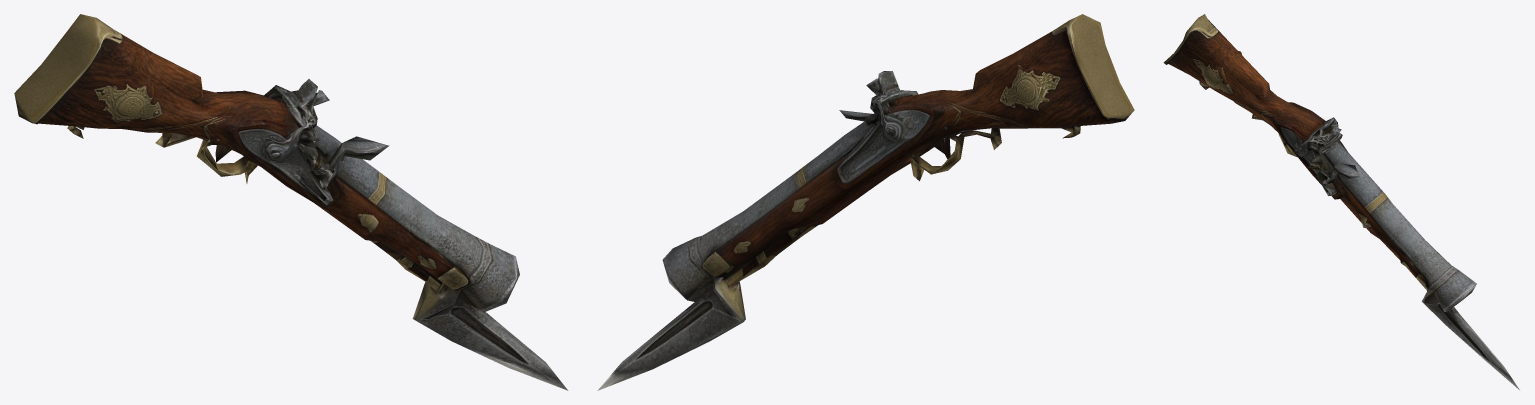
Rendered from infantry_base_musket.glb.
3 renders of one model, left to right at view 1: azimuth 30°, elevation 25°; view 2: azimuth 150°, elevation 25°; view 3: azimuth 330°, elevation 25°, orthographic. The views are drawn at different scales.
Visible parts, largest first — view 1: tripo_node_d7edd22b-1cde-44a5-bd5e-5764cfa827cd; view 2: tripo_node_d7edd22b-1cde-44a5-bd5e-5764cfa827cd; view 3: tripo_node_d7edd22b-1cde-44a5-bd5e-5764cfa827cd.
Part boxes in pixels (box(x1,y1,x2,y2)): tripo_node_d7edd22b-1cde-44a5-bd5e-5764cfa827cd: box(14, 14, 568, 390); tripo_node_d7edd22b-1cde-44a5-bd5e-5764cfa827cd: box(597, 14, 1134, 390); tripo_node_d7edd22b-1cde-44a5-bd5e-5764cfa827cd: box(1163, 14, 1519, 389).
Bounding box in the file's own units: 0.5115 × 0.4461 × 0.083.
1 material, 1 textured.
